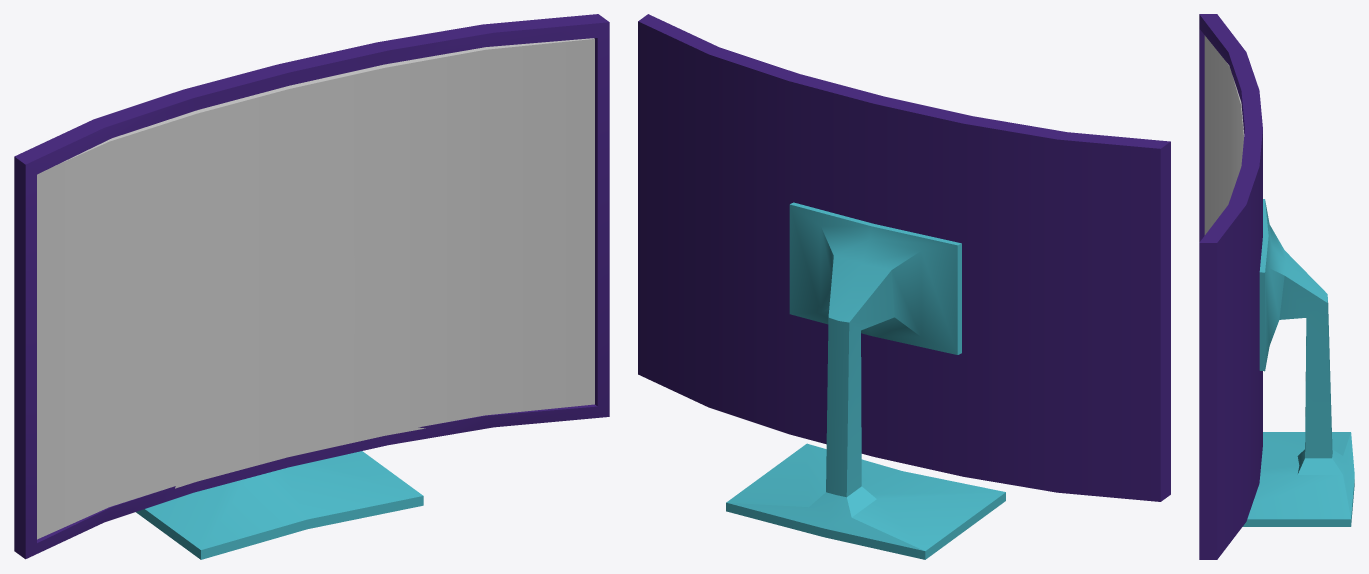
The model's file is PC_Monitor.fbx.
3 renders of one model, left to right at view 1: azimuth 30°, elevation 25°; view 2: azimuth 150°, elevation 25°; view 3: azimuth 270°, elevation 25°, orthographic. The views are drawn at different scales.
Visible parts, largest first — view 1: Display; view 2: Display; view 3: Display.
Part boxes in pixels (x1,y1,x2,y2): Display: (14, 14, 609, 559); Display: (638, 14, 1170, 559); Display: (1199, 14, 1354, 559).
Bounding box in the file's own units: 2.58 × 1.87 × 0.7416.
